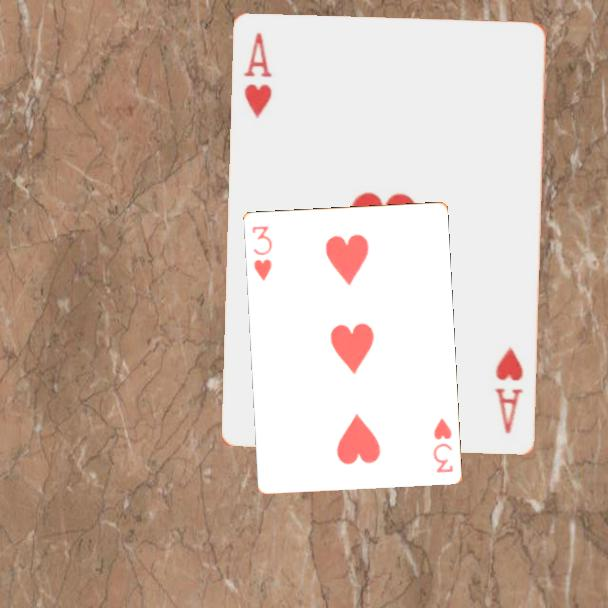h01: (492, 344, 527, 437), (240, 30, 275, 122)
h03: (248, 222, 275, 283), (429, 414, 455, 475)
